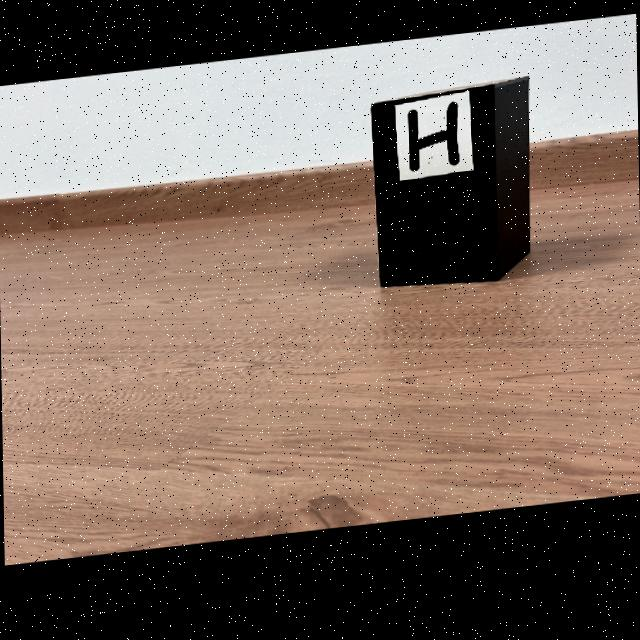H: (407, 111, 459, 179)
